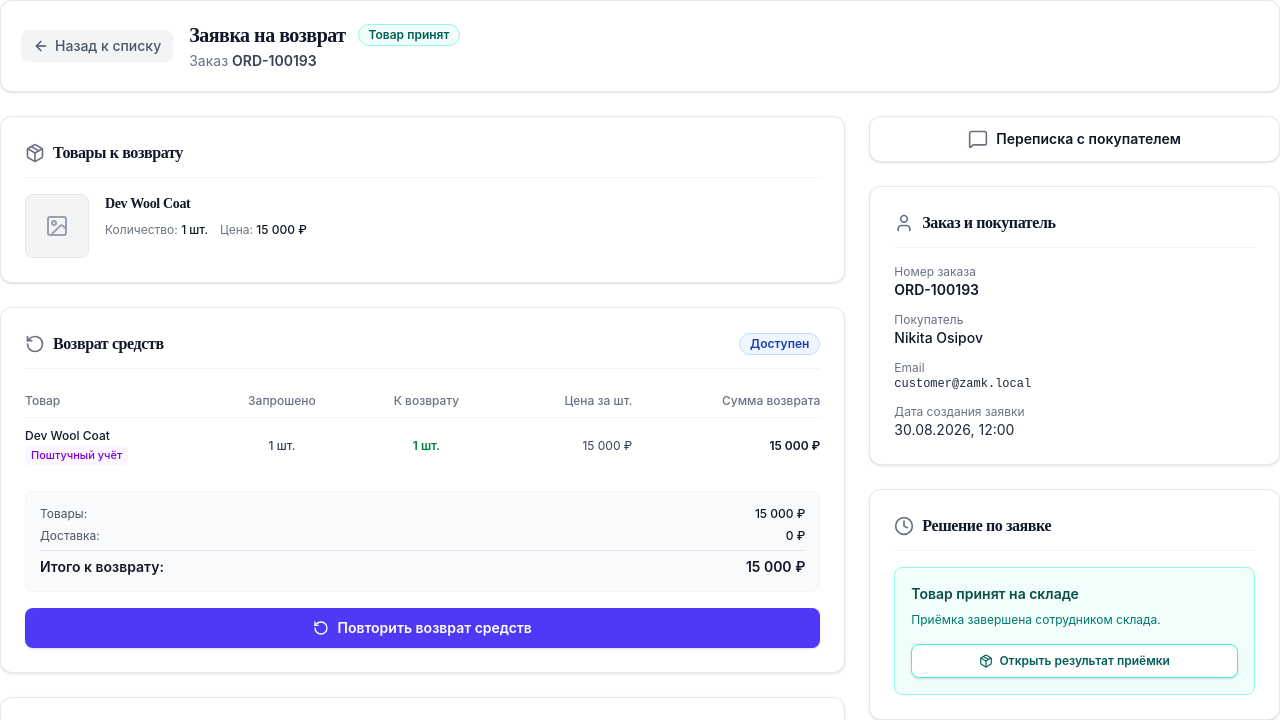
Test: Admin Returns Refund UI (M5.4B) › renders retry button when latestRefundStatus is failed and canRefund is true
Expected: the element with test id "return-refund-card" is shown, [0,307,845,673]
Expected: the element with test id "return-refund-card" shows "Доступен", [750,336,809,351]
// Open modal and check retry modal wording
Click the button "Повторить возврат средств": point(423, 628) [25,608,820,648]
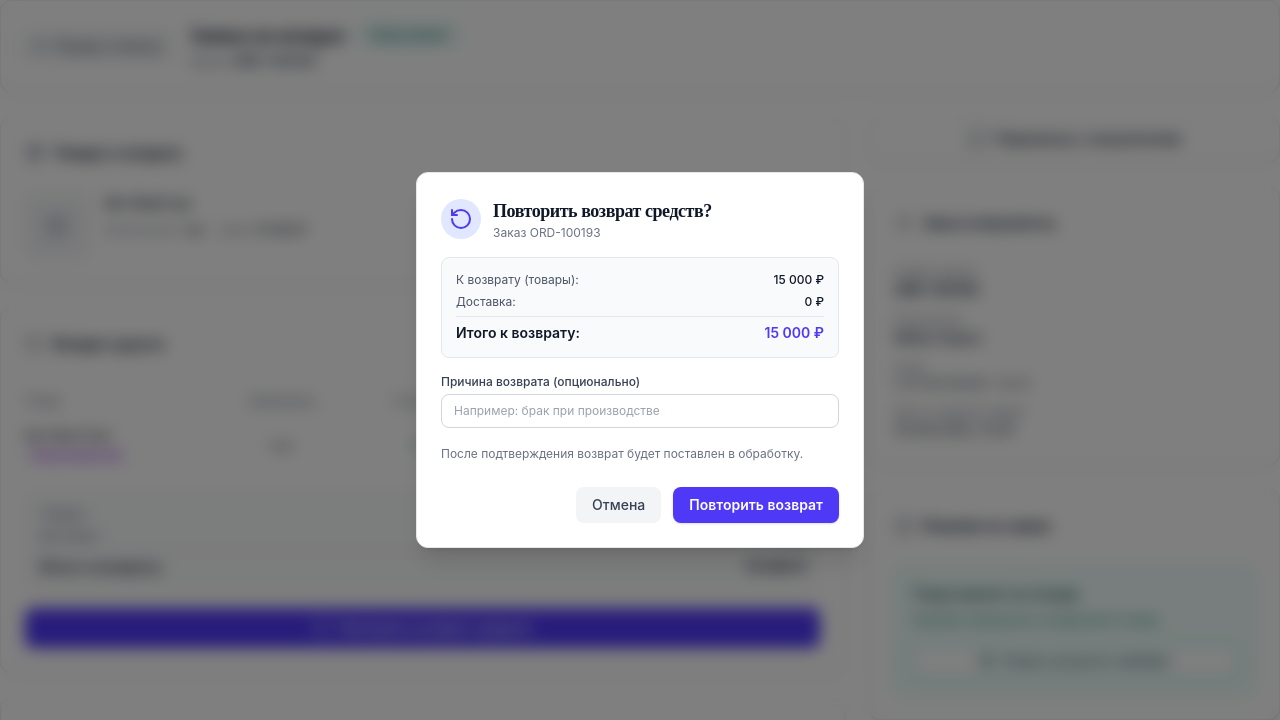
Now the heading "Повторить возврат средств?" is shown, box [493,197,712,225]
Now the button "Повторить возврат" is shown, box [673,487,839,523]
